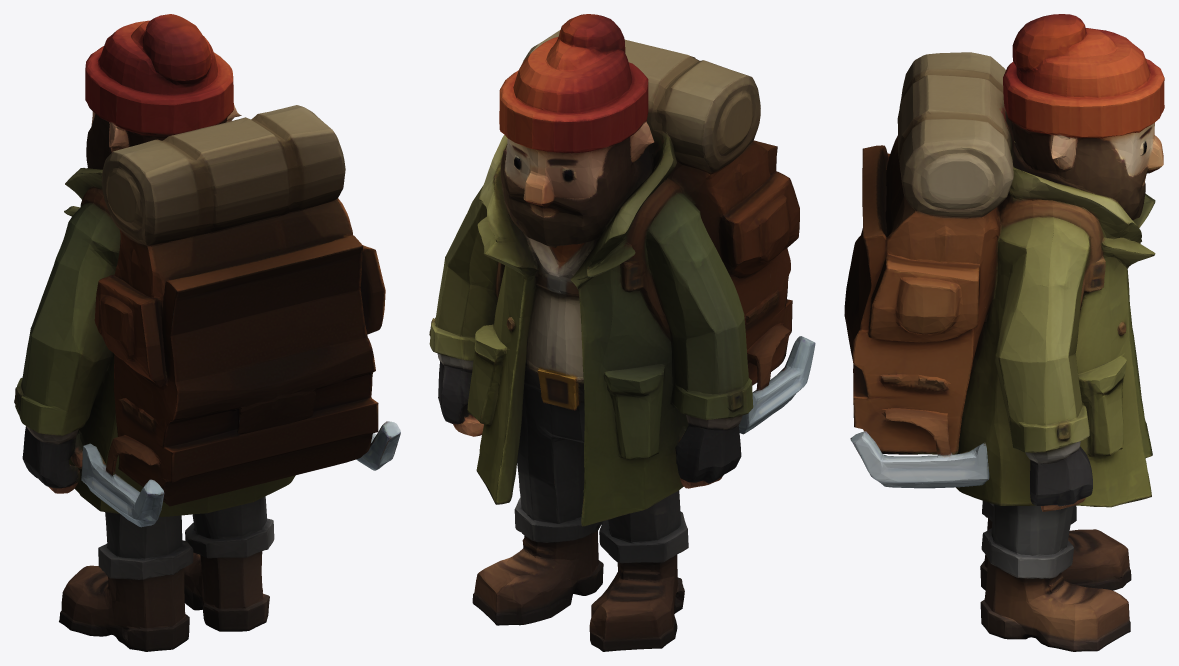
Rendered from hero-trellis.glb.
3 renders of one model, left to right at view 1: azimuth 30°, elevation 25°; view 2: azimuth 150°, elevation 25°; view 3: azimuth 270°, elevation 25°, orthographic.
Parts seen in each view (by area): view 1: world; view 2: world; view 3: world.
Boxes of the visible parts, x1,y1,x2,y2 form: world: (14, 14, 400, 651); world: (429, 14, 815, 651); world: (844, 14, 1164, 651).
Bounding box in the file's own units: 0.552 × 0.9988 × 0.4941.
Materials: 1 (1 with a texture image).
